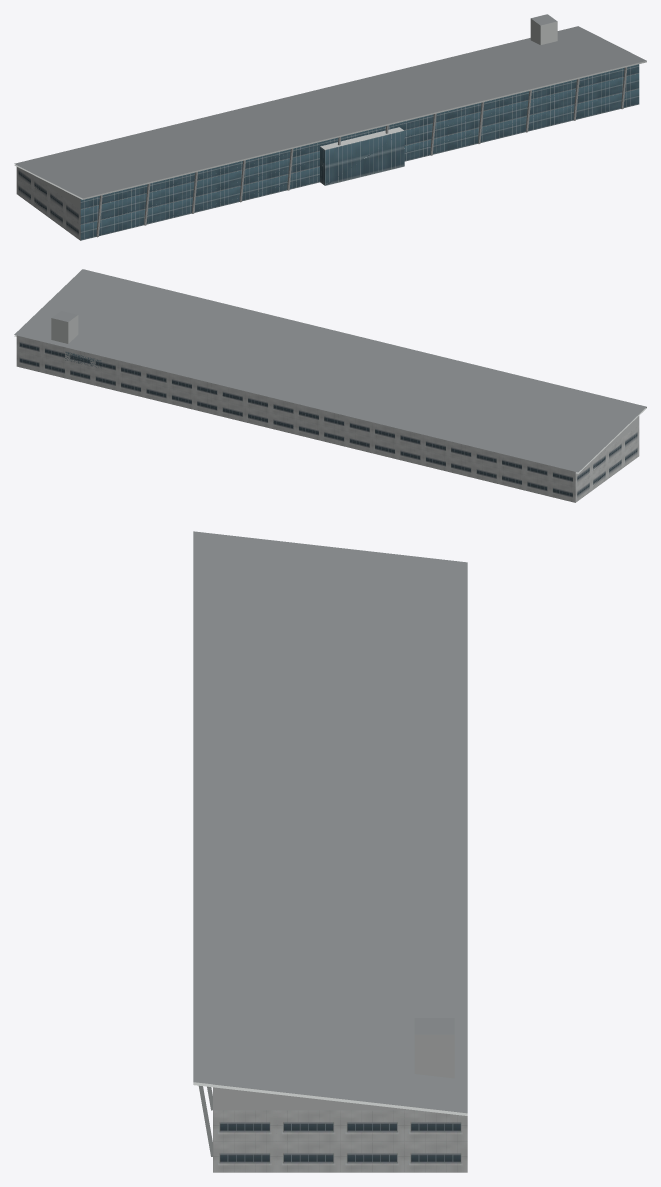
File: pier_27_cruise_terminal.glb
3 renders of one model, top to bottom at view 1: azimuth 30°, elevation 25°; view 2: azimuth 150°, elevation 25°; view 3: azimuth 270°, elevation 25°, orthographic. The views are drawn at different scales.
Parts seen in each view (by area): view 1: pier_27_cruise_terminal; view 2: pier_27_cruise_terminal; view 3: pier_27_cruise_terminal.
Part boxes in pixels (x1,y1,x2,y2): pier_27_cruise_terminal: [14, 14, 646, 240]; pier_27_cruise_terminal: [14, 269, 646, 502]; pier_27_cruise_terminal: [193, 531, 467, 1172].
Size of the model in its own units: 197 by 17.99 by 41.51.
2 materials, 2 textured.
